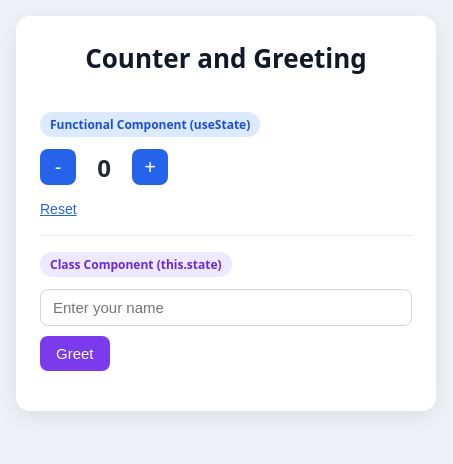
Counter and Greeting App › verify_greet_with_name_shows_trimmed_greeting
Step 1. Type "  Asha  " into the field with id "nameInput" → x=226, y=308, box [40, 289, 412, 326]
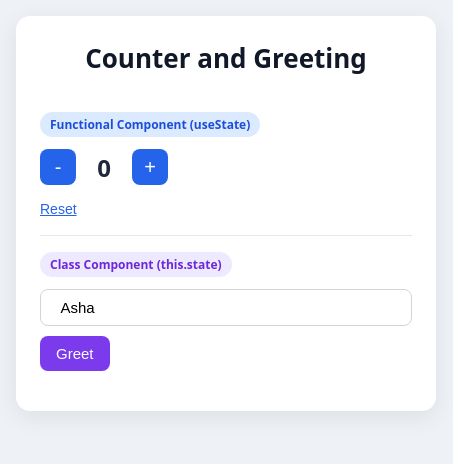
Step 2. Click the button with id "greetBtn" → x=75, y=354, box [40, 336, 110, 371]
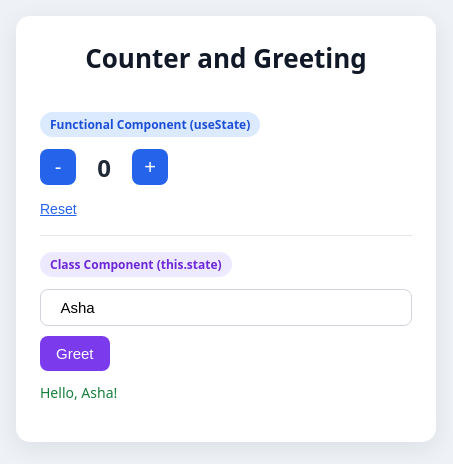
Check: the text with id "greeting" reads "Hello, Asha!", box [40, 383, 117, 402]
